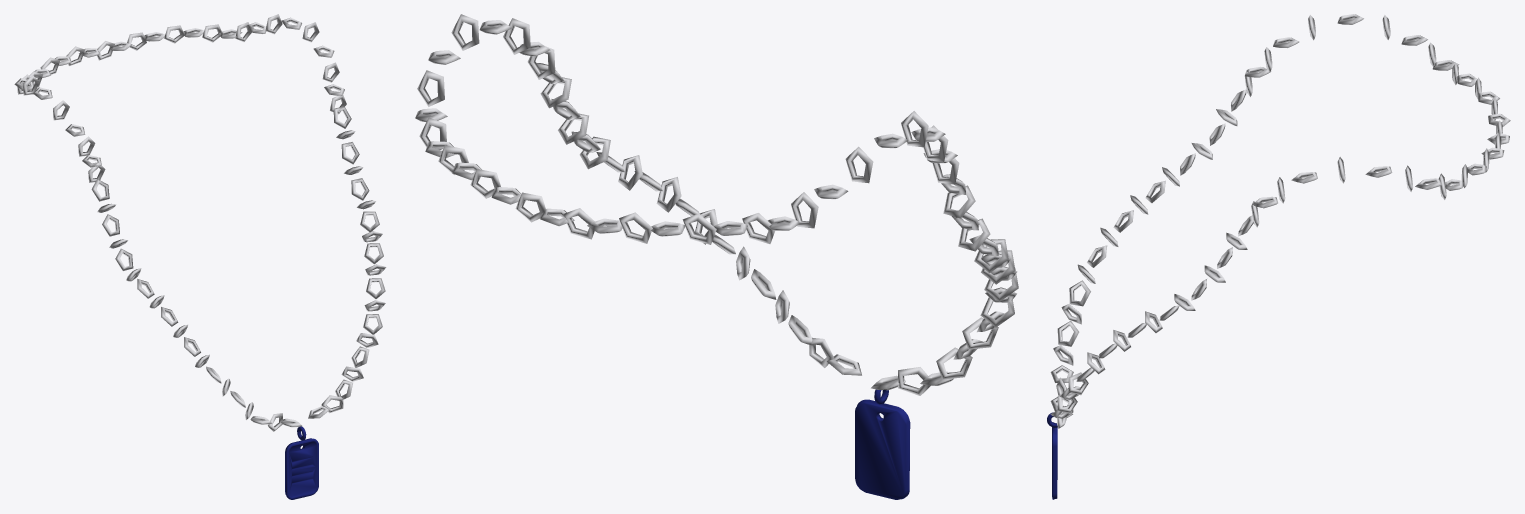
File: acc_chain_dogtag.glb
3 views of the same model, side by side, from view 1: azimuth 30°, elevation 25°; view 2: azimuth 150°, elevation 25°; view 3: azimuth 270°, elevation 25° (orthographic). The views are drawn at different scales.
Parts seen in each view (by area): view 1: acc_chain_dogtag_0_metal, acc_chain_dogtag_1_secondary; view 2: acc_chain_dogtag_0_metal, acc_chain_dogtag_1_secondary; view 3: acc_chain_dogtag_0_metal, acc_chain_dogtag_1_secondary.
Boxes of the visible parts, x1,y1,x2,y2 form: acc_chain_dogtag_0_metal: (14, 14, 386, 431); acc_chain_dogtag_1_secondary: (285, 426, 318, 499); acc_chain_dogtag_0_metal: (415, 14, 1018, 395); acc_chain_dogtag_1_secondary: (855, 389, 910, 499); acc_chain_dogtag_0_metal: (1050, 14, 1510, 428); acc_chain_dogtag_1_secondary: (1047, 412, 1057, 499).
Bounding box in the file's own units: 0.1856 × 0.2225 × 0.2279.
